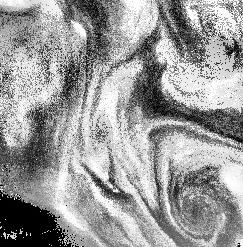CE: (171, 172, 234, 241)
